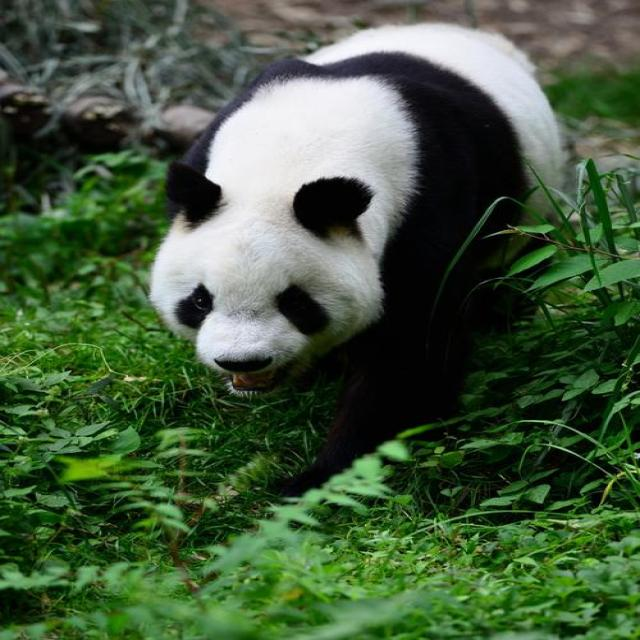panda: (105, 14, 572, 493)
